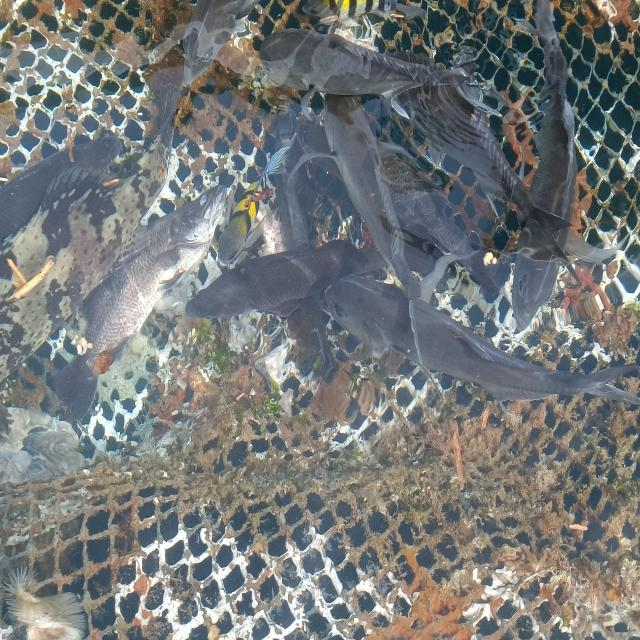ikan: (318, 266, 568, 412), (225, 27, 440, 108), (187, 256, 310, 337)
